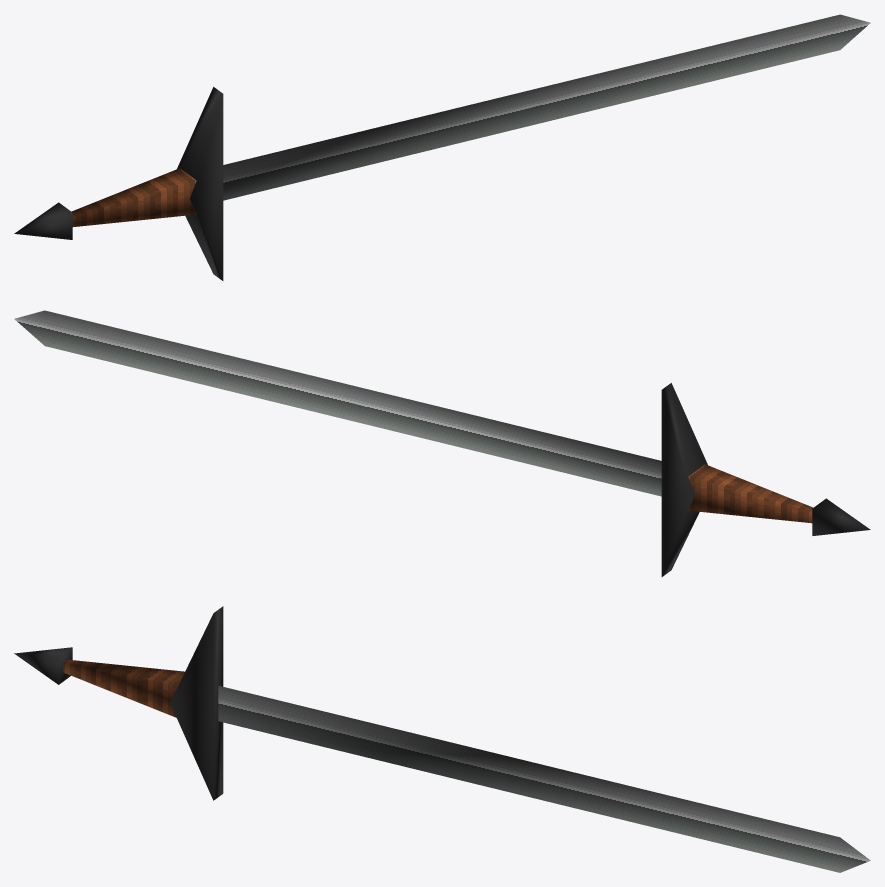
3 views of the same model, one above another, from view 1: azimuth 30°, elevation 25°; view 2: azimuth 150°, elevation 25°; view 3: azimuth 330°, elevation 25° (orthographic).
Visible parts, largest first — view 1: it26; view 2: it26; view 3: it26.
Part boxes in pixels (x1,y1,x2,y2): it26: (14,14,870,280); it26: (14,310,870,576); it26: (14,606,870,872).
Size of the model in its own units: 3.15 by 0.6602 by 0.1481.
Materials: 3 (3 with a texture image).
